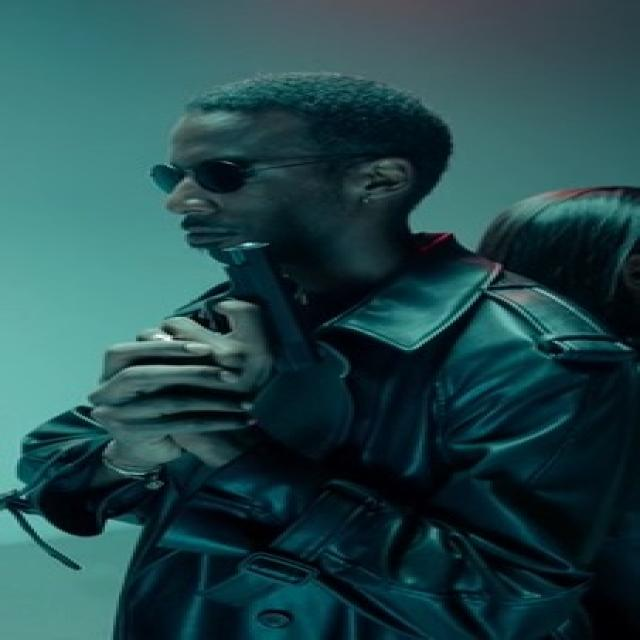Gun_Holder: (99, 235, 340, 410)
Jacket_Wearer: (22, 242, 626, 640)
Person: (7, 71, 628, 638)
